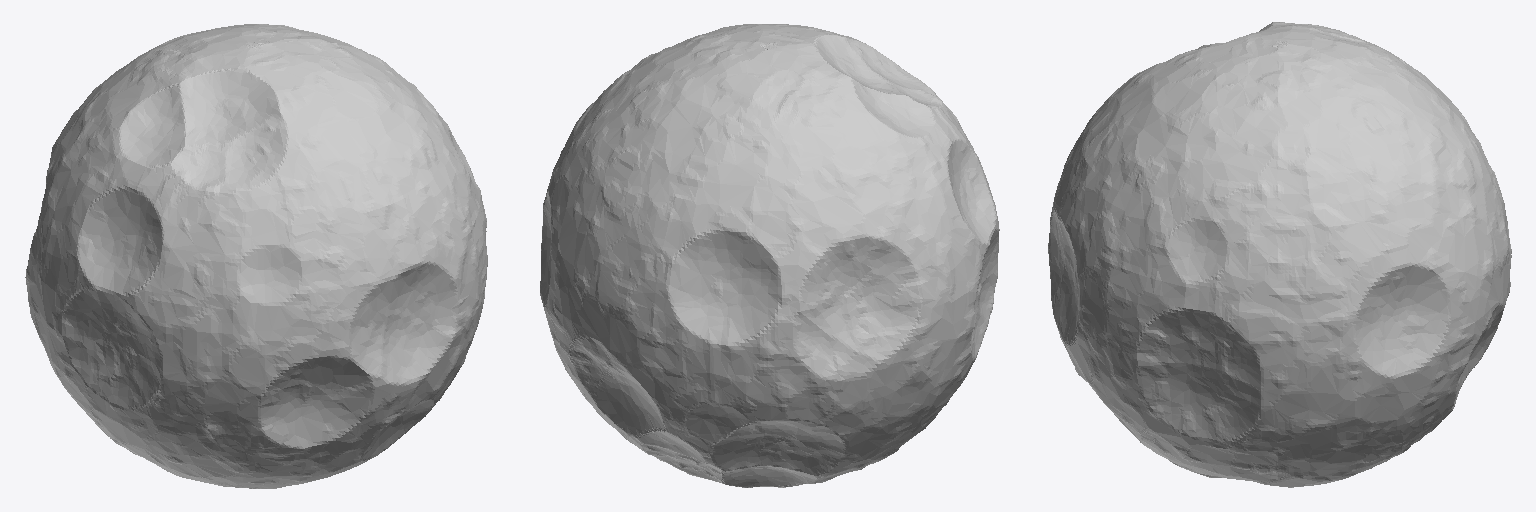
The model's file is planete.obj.
3 renders of one model, left to right at view 1: azimuth 30°, elevation 25°; view 2: azimuth 150°, elevation 25°; view 3: azimuth 270°, elevation 25°, orthographic.
Parts seen in each view (by area): view 1: Sphere001; view 2: Sphere001; view 3: Sphere001.
Boxes of the visible parts, x1,y1,x2,y2 form: Sphere001: [25, 24, 487, 488]; Sphere001: [540, 24, 999, 487]; Sphere001: [1048, 22, 1511, 487].
Size of the model in its own units: 1195 by 1198 by 1193.